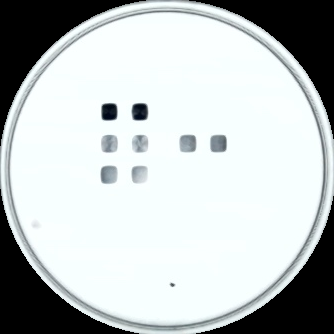检查点: (130, 132, 151, 155), (99, 133, 120, 155), (178, 134, 201, 153), (130, 164, 151, 184), (100, 102, 119, 122), (209, 134, 228, 153), (100, 166, 119, 185), (131, 103, 150, 121)
